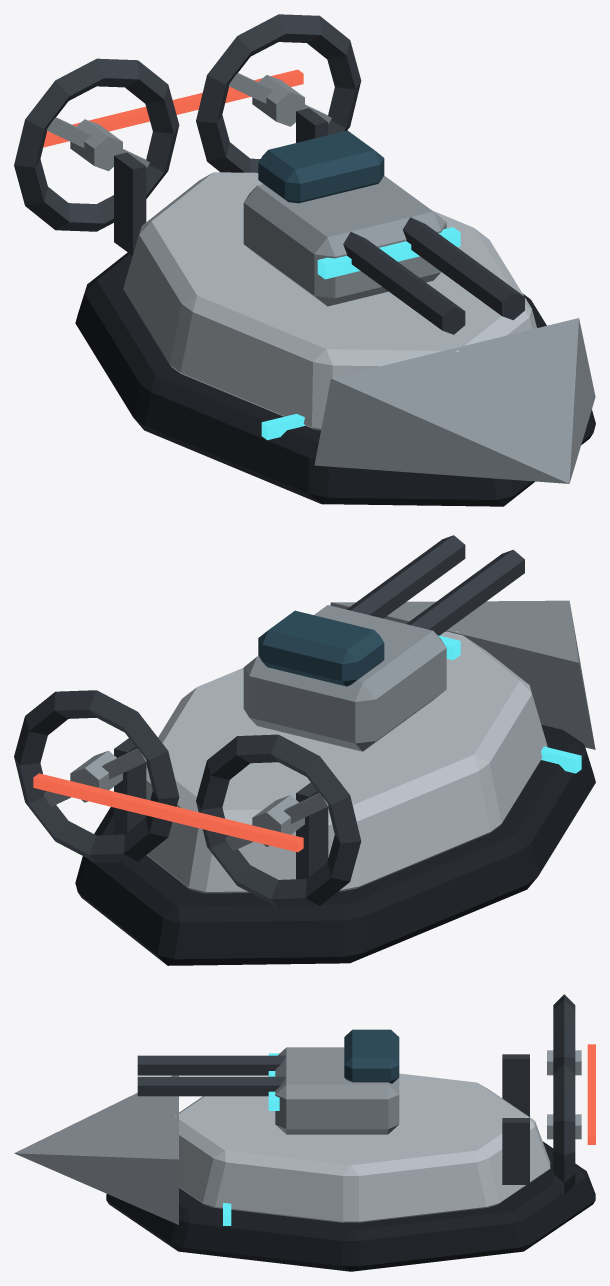
Rendered from exo-skiff.glb.
3 views of the same model, one above another, from view 1: azimuth 30°, elevation 25°; view 2: azimuth 150°, elevation 25°; view 3: azimuth 270°, elevation 25° (orthographic). The views are drawn at different scales.
Visible parts, largest first — view 1: body, turret; view 2: body, turret; view 3: body, turret.
Part boxes in pixels (<box>): body: <box>14,14,595,506</box>; turret: <box>243,130,524,334</box>; body: <box>14,600,595,965</box>; turret: <box>243,535,524,751</box>; body: <box>14,994,595,1271</box>; turret: <box>137,1029,399,1134</box>.
Bounding box in the file's own units: 2.38 × 1.38 × 4.23.
